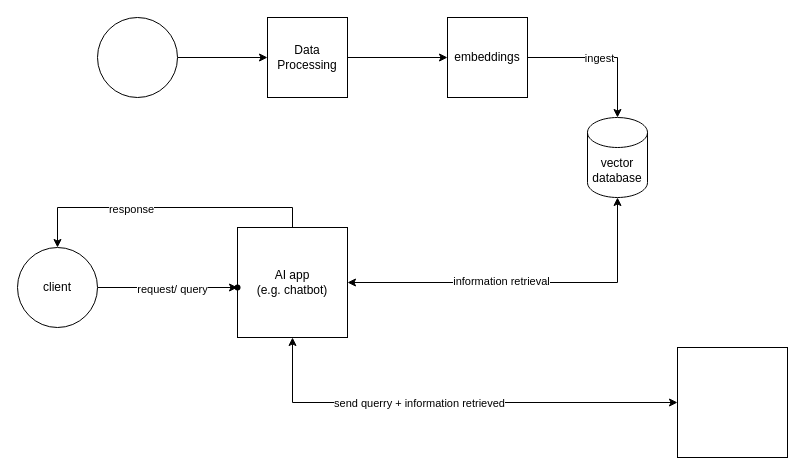
This 805x475 diagram has some shape labels left out. The shapes that lost their labels are listed below. From the top down, each one's centre as x and y in pixels, then its label:
At point 137,57: "External Data for Information Extraction".
At point 732,402: "Pre-trained LLM".
